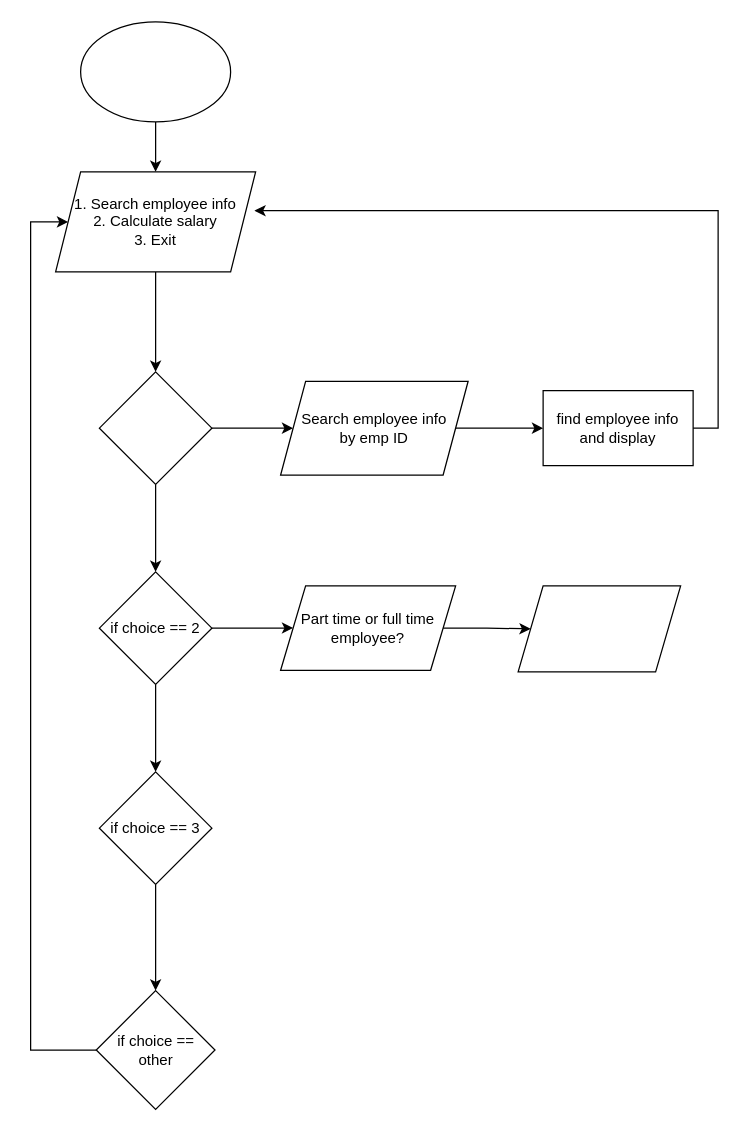
This 750x1131 diagram has some shape labels left out. Each missing label, with the centre of its shape:
"if choice == 1" goes at (x=155, y=427).
"Num hours worked?" goes at (x=599, y=628).
"START" goes at (x=155, y=71).
